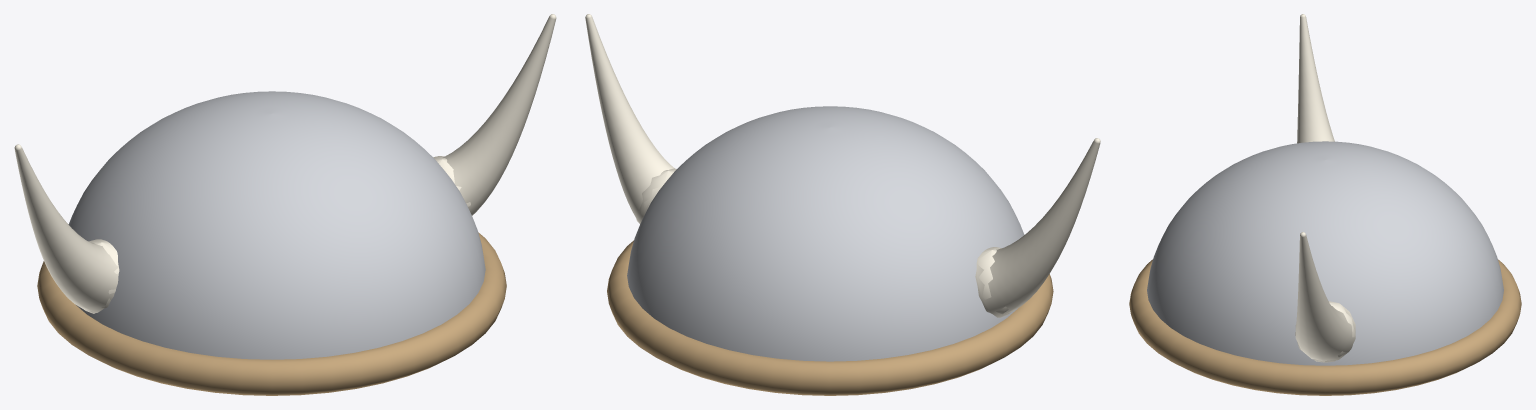
File: viking-helmet.glb
3 views of the same model, side by side, from view 1: azimuth 30°, elevation 25°; view 2: azimuth 150°, elevation 25°; view 3: azimuth 270°, elevation 25° (orthographic). The views are drawn at different scales.
Size of the model in its own units: 27.94 by 11.48 by 21.
